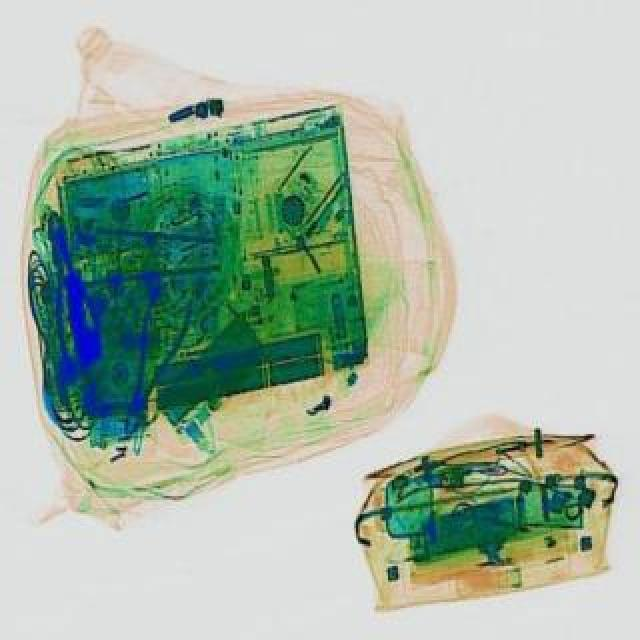wrench: (100, 282, 200, 440), (28, 206, 104, 374)
